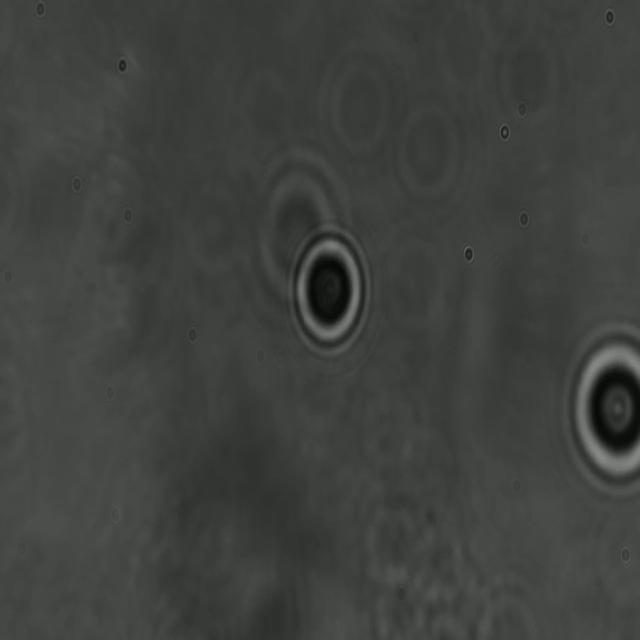DCELL: (287, 225, 372, 358)
